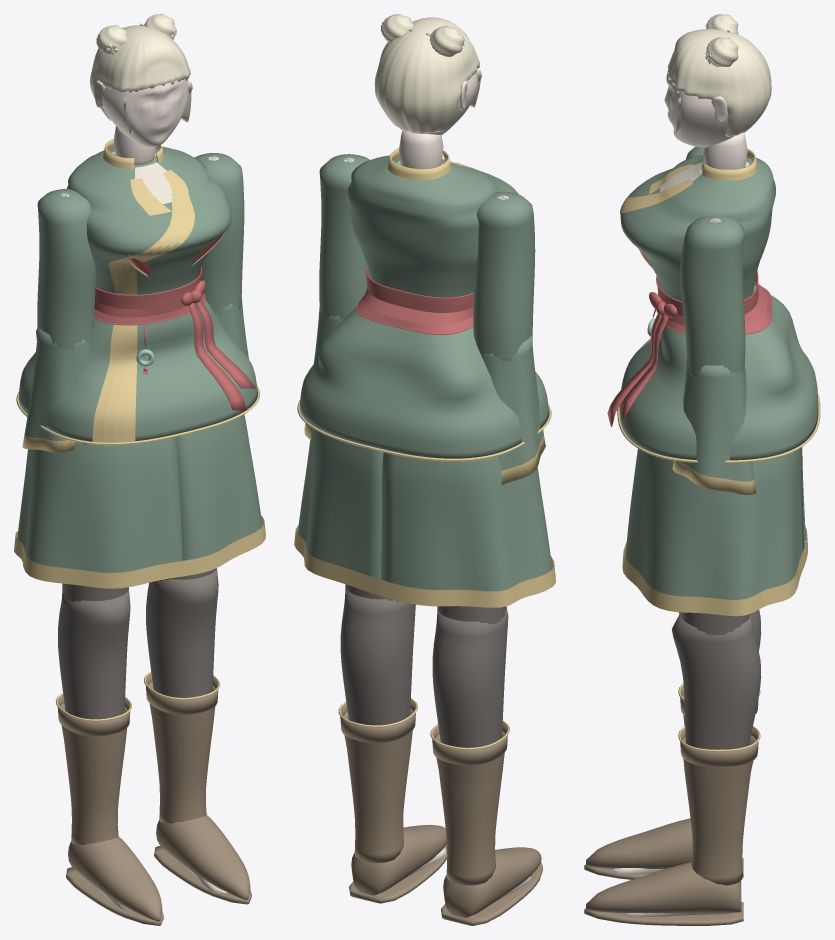
File: wuxia.glb
3 views of the same model, side by side, from view 1: azimuth 30°, elevation 25°; view 2: azimuth 150°, elevation 25°; view 3: azimuth 270°, elevation 25° (orthographic). The views are drawn at different scales.
Visible parts, largest first — view 1: cosciaD_gonna, busto_veste, anca_veste, ginocchioD_stivale, ginocchioS_stivale, cosciaS_gonna, spallaD_veste, ginocchioD_pantaloni, ginocchioS_pantaloni, testa_capelli, spallaS_veste, gomitoD_veste (+11 smaller); view 2: anca_veste, cosciaD_gonna, busto_veste, ginocchioD_stivale, ginocchioS_stivale, cosciaS_gonna, testa_capelli, spallaD_veste, ginocchioD_pantaloni, ginocchioS_pantaloni, spallaS_veste, gomitoD_veste (+9 smaller); view 3: cosciaS_gonna, anca_veste, ginocchioS_stivale, busto_veste, spallaS_veste, ginocchioS_pantaloni, testa_capelli, gomitoS_veste, ginocchioD_stivale, cosciaS_gonna_dettagli, testa_volto, anca_fusciacca_fiocco (+5 smaller).
Boxes of the visible parts, <box> form: cosciaD_gonna: <box>17,437,182,572</box>; busto_veste: <box>67,146,231,294</box>; anca_veste: <box>18,300,257,441</box>; ginocchioD_stivale: <box>57,694,163,925</box>; ginocchioS_stivale: <box>146,673,251,904</box>; cosciaS_gonna: <box>175,414,262,560</box>; spallaD_veste: <box>37,189,95,350</box>; ginocchioD_pantaloni: <box>58,589,130,719</box>; ginocchioS_pantaloni: <box>146,568,218,697</box>; testa_capelli: <box>90,14,192,135</box>; spallaS_veste: <box>195,153,244,314</box>; gomitoD_veste: <box>22,328,89,452</box>; anca_veste: <box>299,308,549,458</box>; cosciaD_gonna: <box>381,452,552,591</box>; busto_veste: <box>347,155,518,297</box>; ginocchioD_stivale: <box>432,722,542,925</box>; ginocchioS_stivale: <box>340,700,447,903</box>; cosciaS_gonna: <box>297,428,383,579</box>; testa_capelli: <box>374,14,481,133</box>; spallaD_veste: <box>473,191,535,360</box>; ginocchioD_pantaloni: <box>432,607,508,747</box>; ginocchioS_pantaloni: <box>340,589,415,725</box>; spallaS_veste: <box>319,154,369,319</box>; gomitoD_veste: <box>482,336,545,484</box>; cosciaS_gonna: <box>625,447,804,599</box>; anca_veste: <box>619,285,818,460</box>; ginocchioS_stivale: <box>584,728,758,925</box>; busto_veste: <box>620,154,775,301</box>; spallaS_veste: <box>680,216,745,378</box>; ginocchioS_pantaloni: <box>671,612,761,749</box>; testa_capelli: <box>667,14,771,137</box>; gomitoS_veste: <box>672,361,756,494</box>; ginocchioD_stivale: <box>584,685,758,879</box>; cosciaS_gonna_dettagli: <box>622,544,806,616</box>; testa_volto: <box>664,73,734,147</box>; anca_fusciacca_fiocco: <box>607,292,677,426</box>.
Bounding box in the file's own units: 0.5066 × 1.78 × 0.4408.
